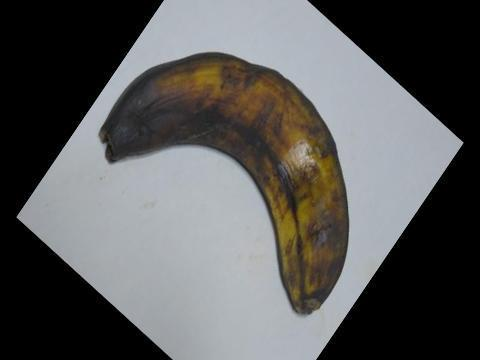overripe: (97, 34, 371, 319)
